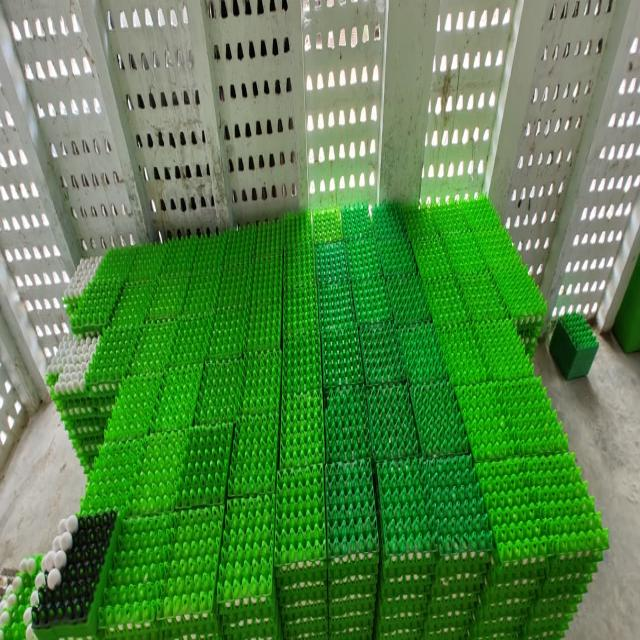egg_tray: (470, 452, 608, 637), (376, 456, 492, 636), (98, 506, 222, 637), (375, 459, 436, 637), (32, 511, 117, 637), (456, 377, 568, 463), (46, 335, 116, 468), (326, 460, 378, 636), (217, 494, 279, 636), (98, 515, 172, 633), (276, 466, 326, 636), (158, 506, 223, 636), (46, 335, 114, 429), (67, 251, 136, 334), (80, 439, 146, 512), (130, 431, 187, 515), (177, 426, 232, 508), (411, 380, 469, 456), (227, 411, 278, 496), (104, 373, 162, 441), (47, 335, 98, 411), (85, 325, 141, 394), (368, 383, 420, 457), (324, 385, 371, 462), (151, 362, 202, 431), (280, 391, 324, 468), (0, 556, 41, 638), (550, 312, 598, 378), (398, 322, 448, 383), (360, 323, 406, 383), (70, 280, 121, 333), (322, 327, 364, 387), (283, 332, 322, 395), (242, 351, 281, 413), (170, 310, 212, 365), (388, 274, 430, 324), (282, 278, 318, 335), (63, 256, 102, 307), (246, 295, 282, 350), (352, 275, 392, 323), (318, 279, 355, 330), (110, 283, 153, 325), (346, 235, 382, 279), (378, 238, 415, 277), (316, 243, 348, 284), (340, 202, 373, 239), (312, 209, 342, 243), (0, 567, 17, 600), (180, 633, 182, 636), (294, 279, 296, 282), (70, 431, 72, 433), (80, 405, 82, 407), (66, 299, 68, 301), (312, 262, 312, 263)
